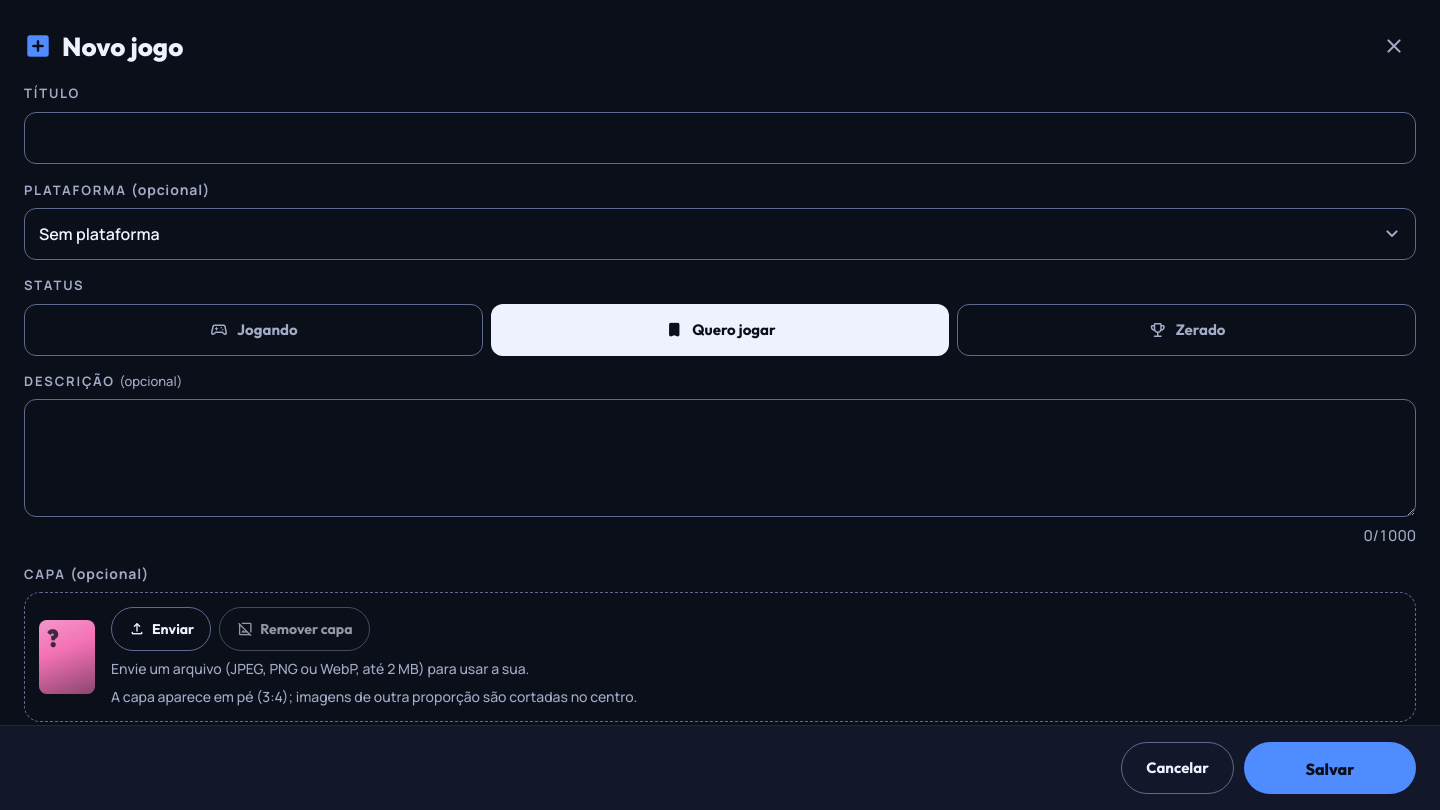
Test: seção Avaliação (CA-16) › voltar para Quero jogar esconde a seção
Click the button "Jogando" at coordinates (253, 330), box [24, 304, 483, 356]
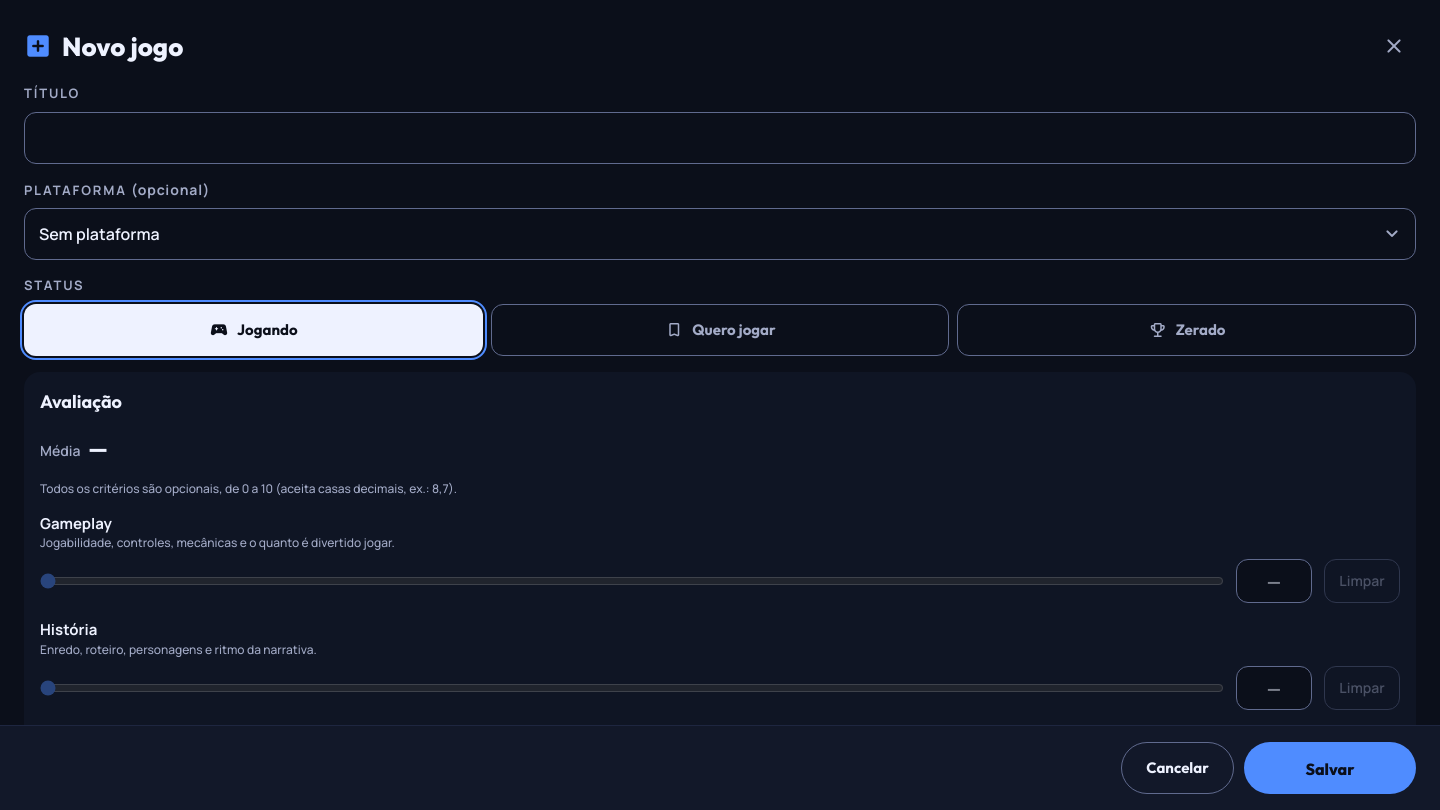
Click the button "Quero jogar" at coordinates (720, 330), box [491, 304, 949, 356]
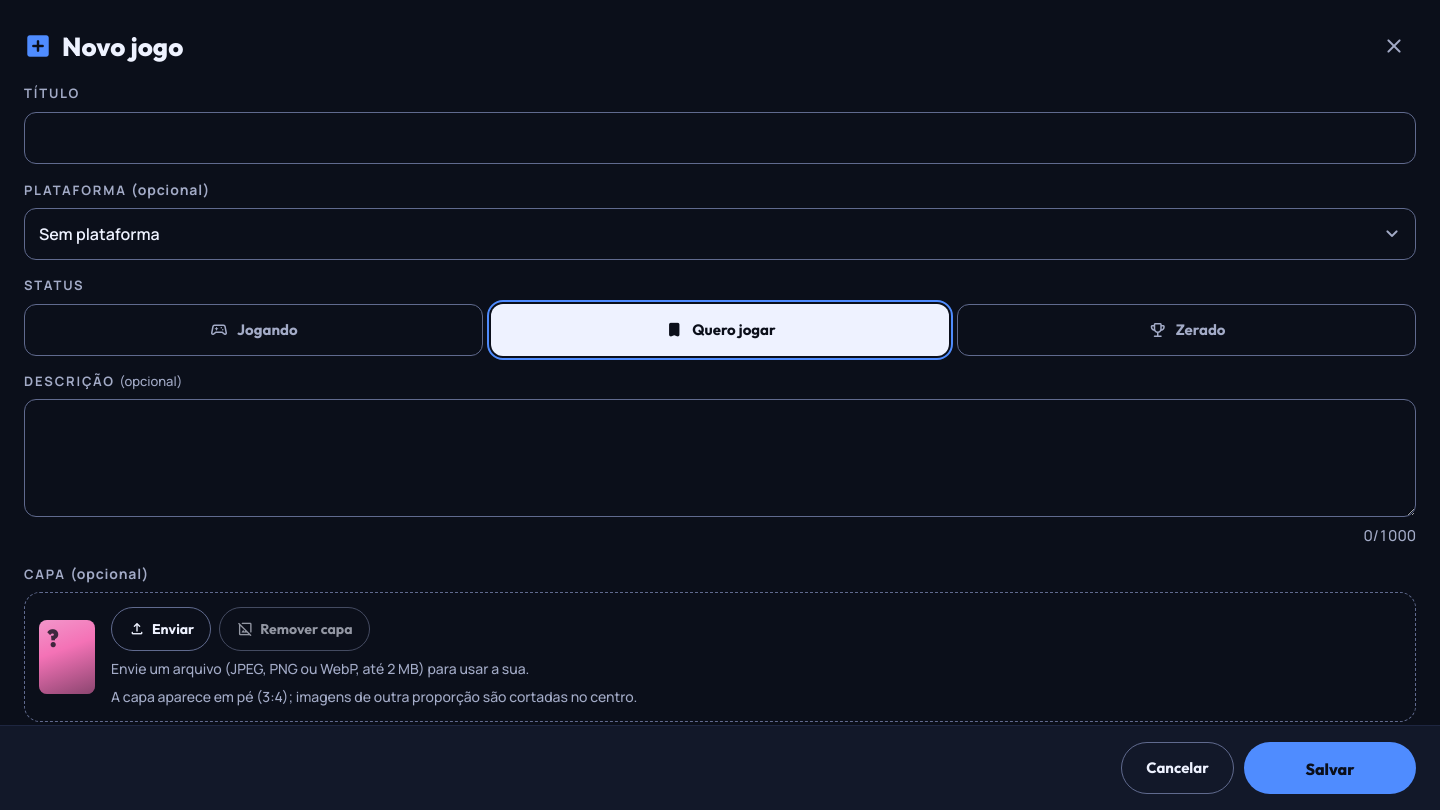
Result: the text "Avaliação" is gone
